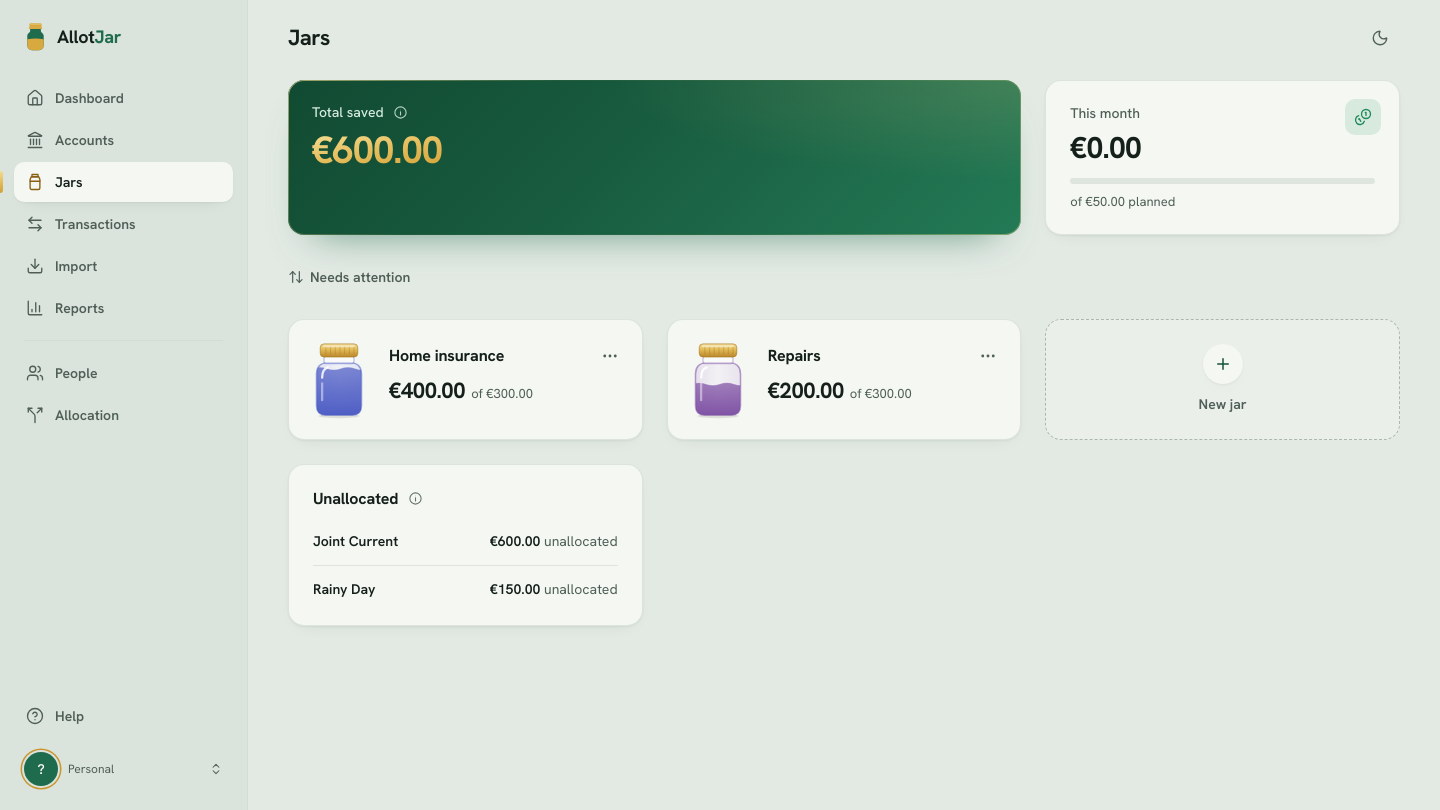
JarsPage — Move money across accounts (rule 80) › lists every account's jars and unallocated funds as destinations, grouped by account; the source stays in the jar's account
Click the button named "Home insurance: more actions".
click(610, 356)  # box [590,336,630,376]
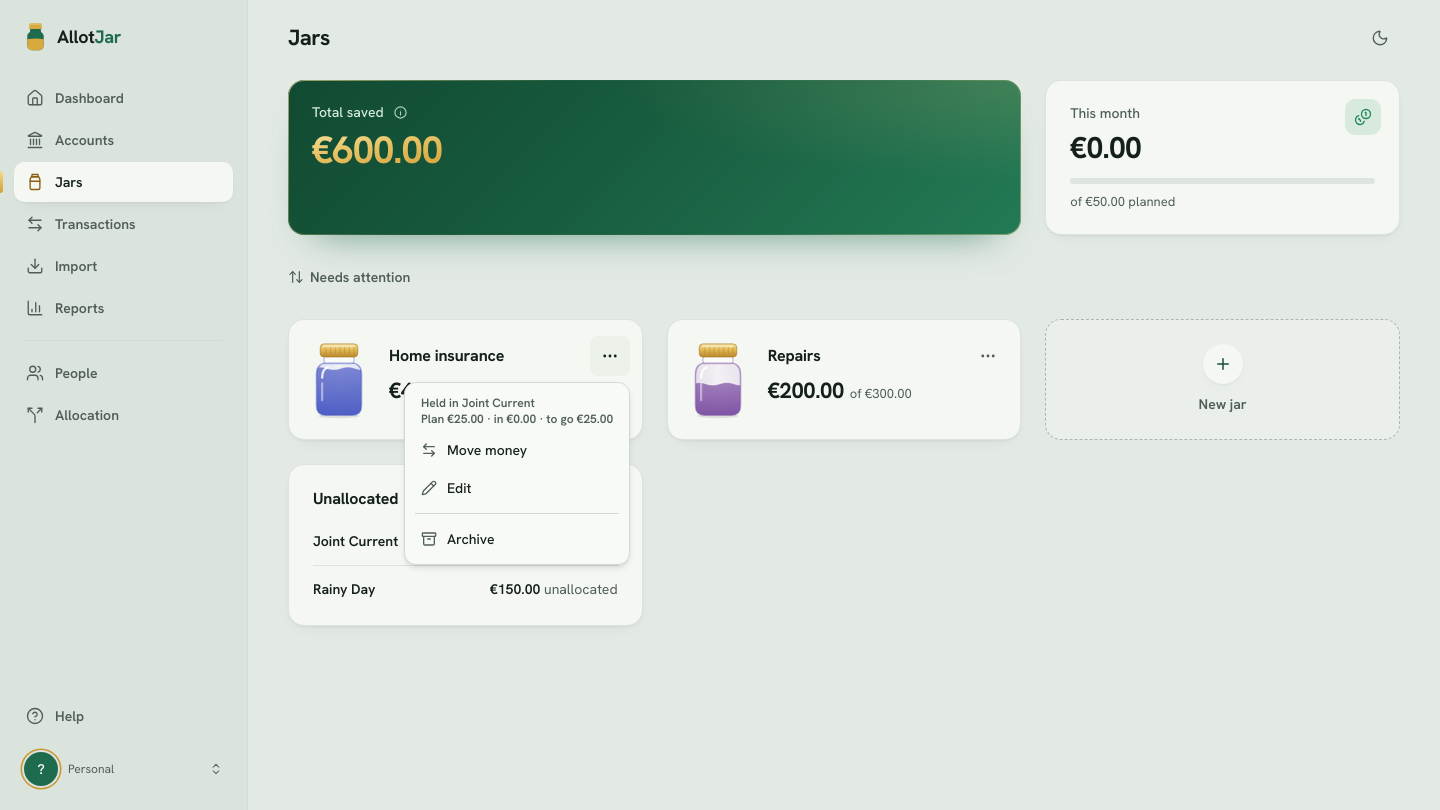
Click the menu item "Move money".
click(474, 450)  # box [421,441,527,459]
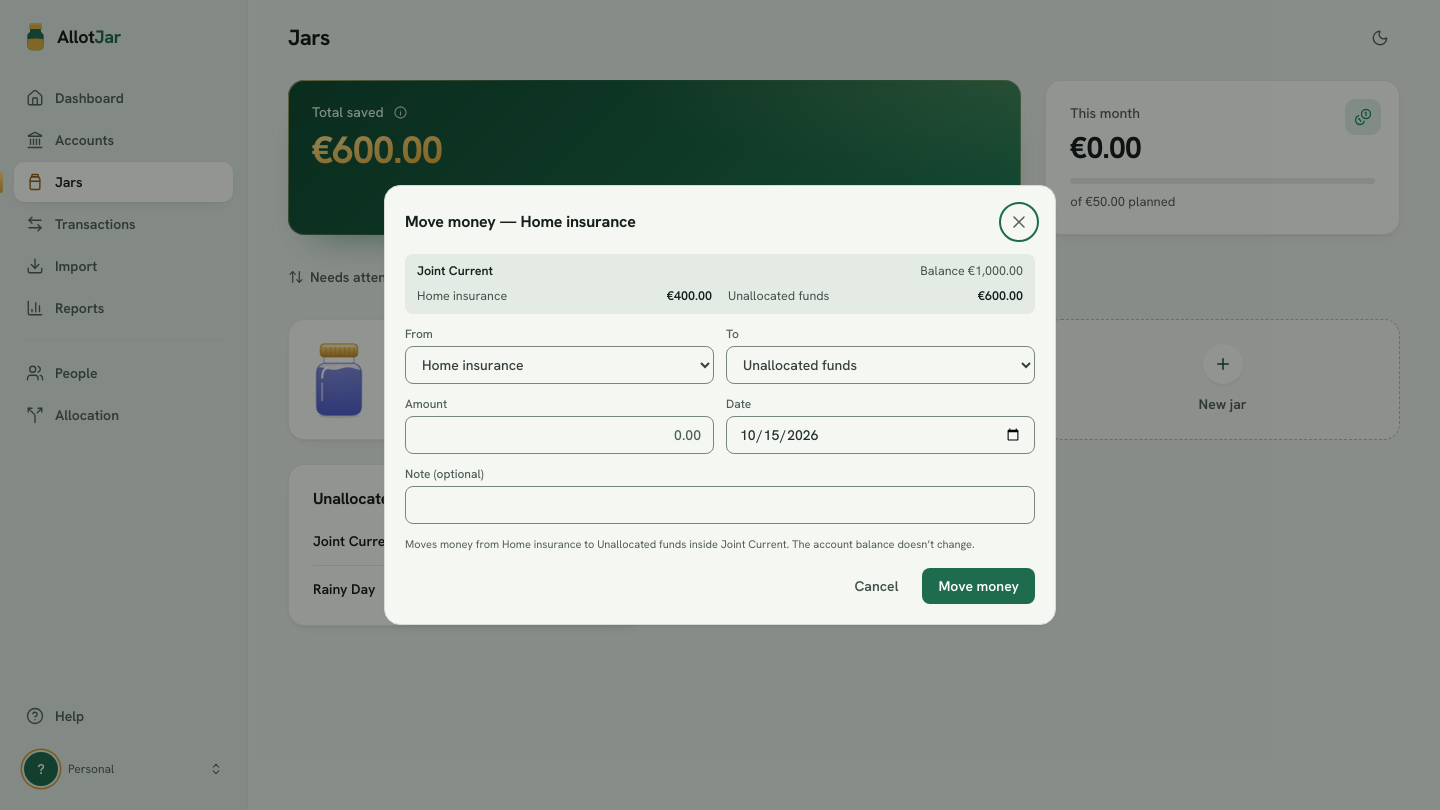
Expected: the dropdown named "Move from" is shown, [405,346,714,384]
Expected: the date field named "Move date" is shown, [726,416,1035,454]
